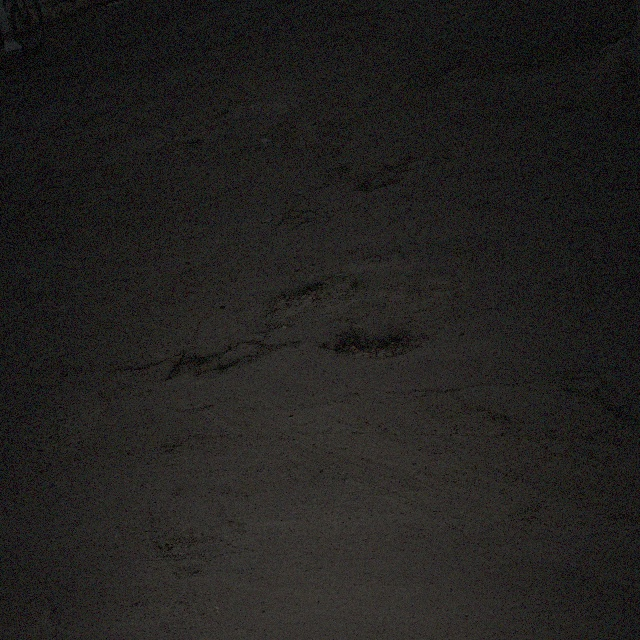pothole: (265, 273, 360, 335), (167, 334, 255, 385), (566, 76, 635, 116), (510, 48, 591, 80), (330, 329, 417, 357), (251, 334, 299, 369), (354, 169, 397, 194), (173, 138, 202, 156), (335, 9, 369, 21)
